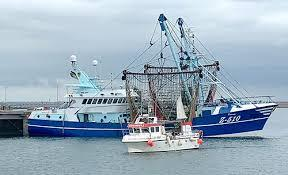Ship: (29, 15, 278, 138), (123, 97, 203, 153)
